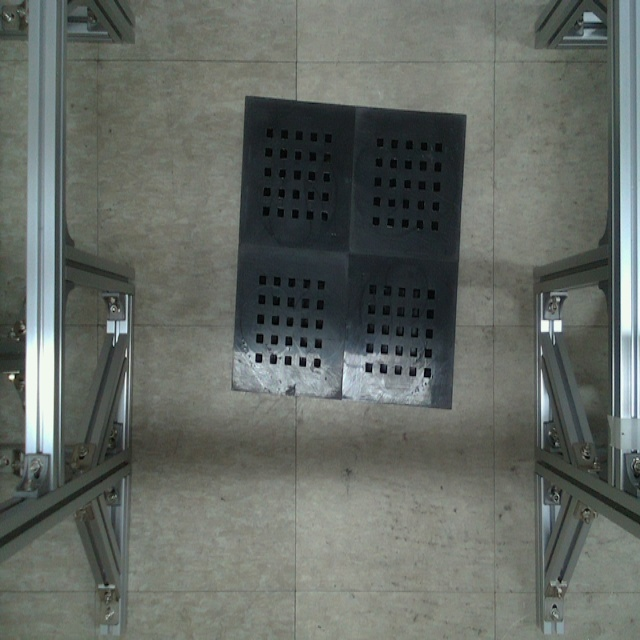pallet: (234, 86, 473, 407)
